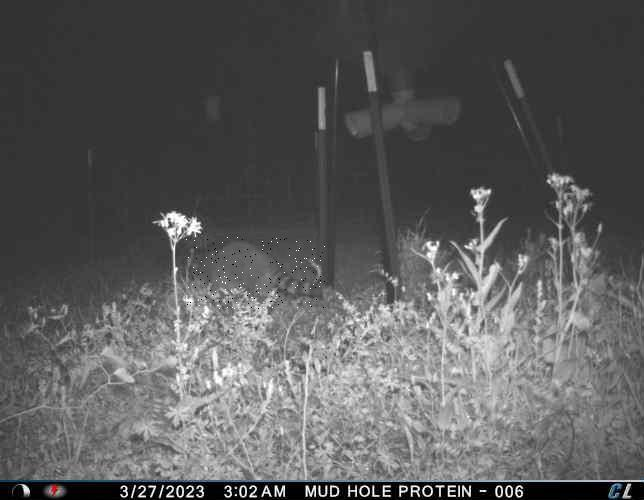Raccoon: (187, 238, 326, 310)
